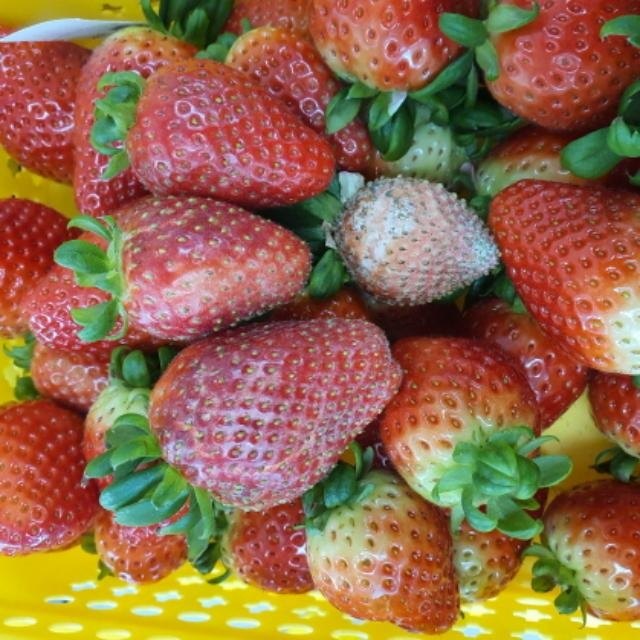Powdery Mildew Fruit: (147, 315, 404, 513), (105, 195, 315, 341), (328, 174, 503, 307)
